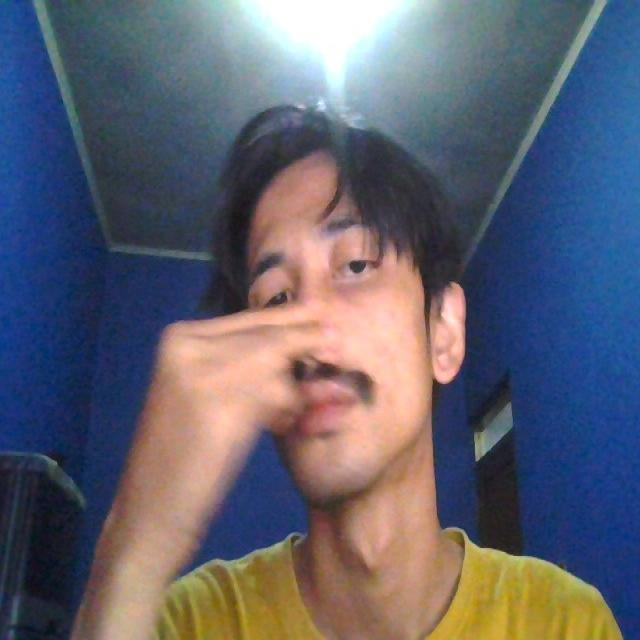movement: (136, 91, 492, 532)
